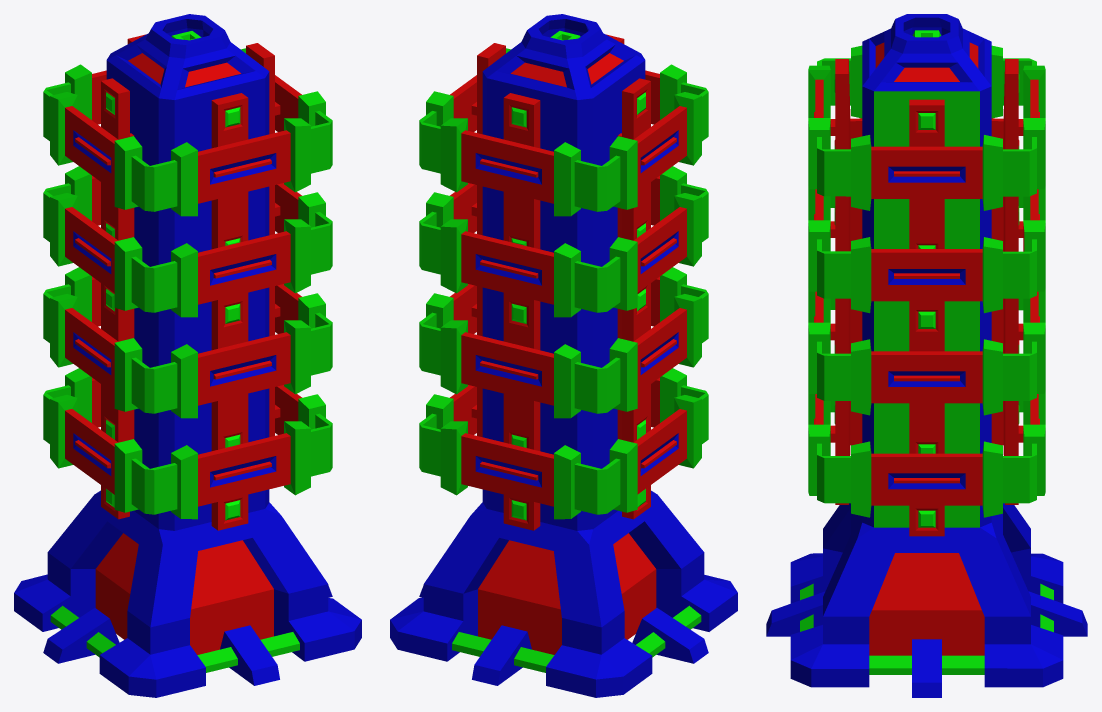
Rendered from SM_PuzzleStop01.fbx.
3 renders of one model, left to right at view 1: azimuth 30°, elevation 25°; view 2: azimuth 150°, elevation 25°; view 3: azimuth 270°, elevation 25°, orthographic.
Visible parts, largest first — view 1: PuzzleStop, PuzzleStop_01, PuzzleStop_03, PuzzleStop_02, PuzzleStop_04; view 2: PuzzleStop, PuzzleStop_01, PuzzleStop_02, PuzzleStop_03, PuzzleStop_04; view 3: PuzzleStop, PuzzleStop_01, PuzzleStop_03, PuzzleStop_02, PuzzleStop_04.
Boxes of the visible parts, left/top/right/bottom form: PuzzleStop: left=14, top=14, right=361, bottom=697; PuzzleStop_01: left=43, top=48, right=332, bottom=216; PuzzleStop_03: left=43, top=267, right=332, bottom=418; PuzzleStop_02: left=43, top=166, right=332, bottom=317; PuzzleStop_04: left=43, top=368, right=332, bottom=519; PuzzleStop: left=390, top=14, right=737, bottom=697; PuzzleStop_01: left=419, top=48, right=708, bottom=216; PuzzleStop_02: left=419, top=166, right=708, bottom=317; PuzzleStop_03: left=419, top=267, right=708, bottom=418; PuzzleStop_04: left=419, top=368, right=708, bottom=519; PuzzleStop: left=766, top=14, right=1087, bottom=697; PuzzleStop_01: left=808, top=45, right=1045, bottom=210; PuzzleStop_03: left=808, top=288, right=1045, bottom=415; PuzzleStop_02: left=808, top=186, right=1045, bottom=313; PuzzleStop_04: left=808, top=390, right=1045, bottom=517.
Bounding box in the file's own units: 273 × 565 × 273.
